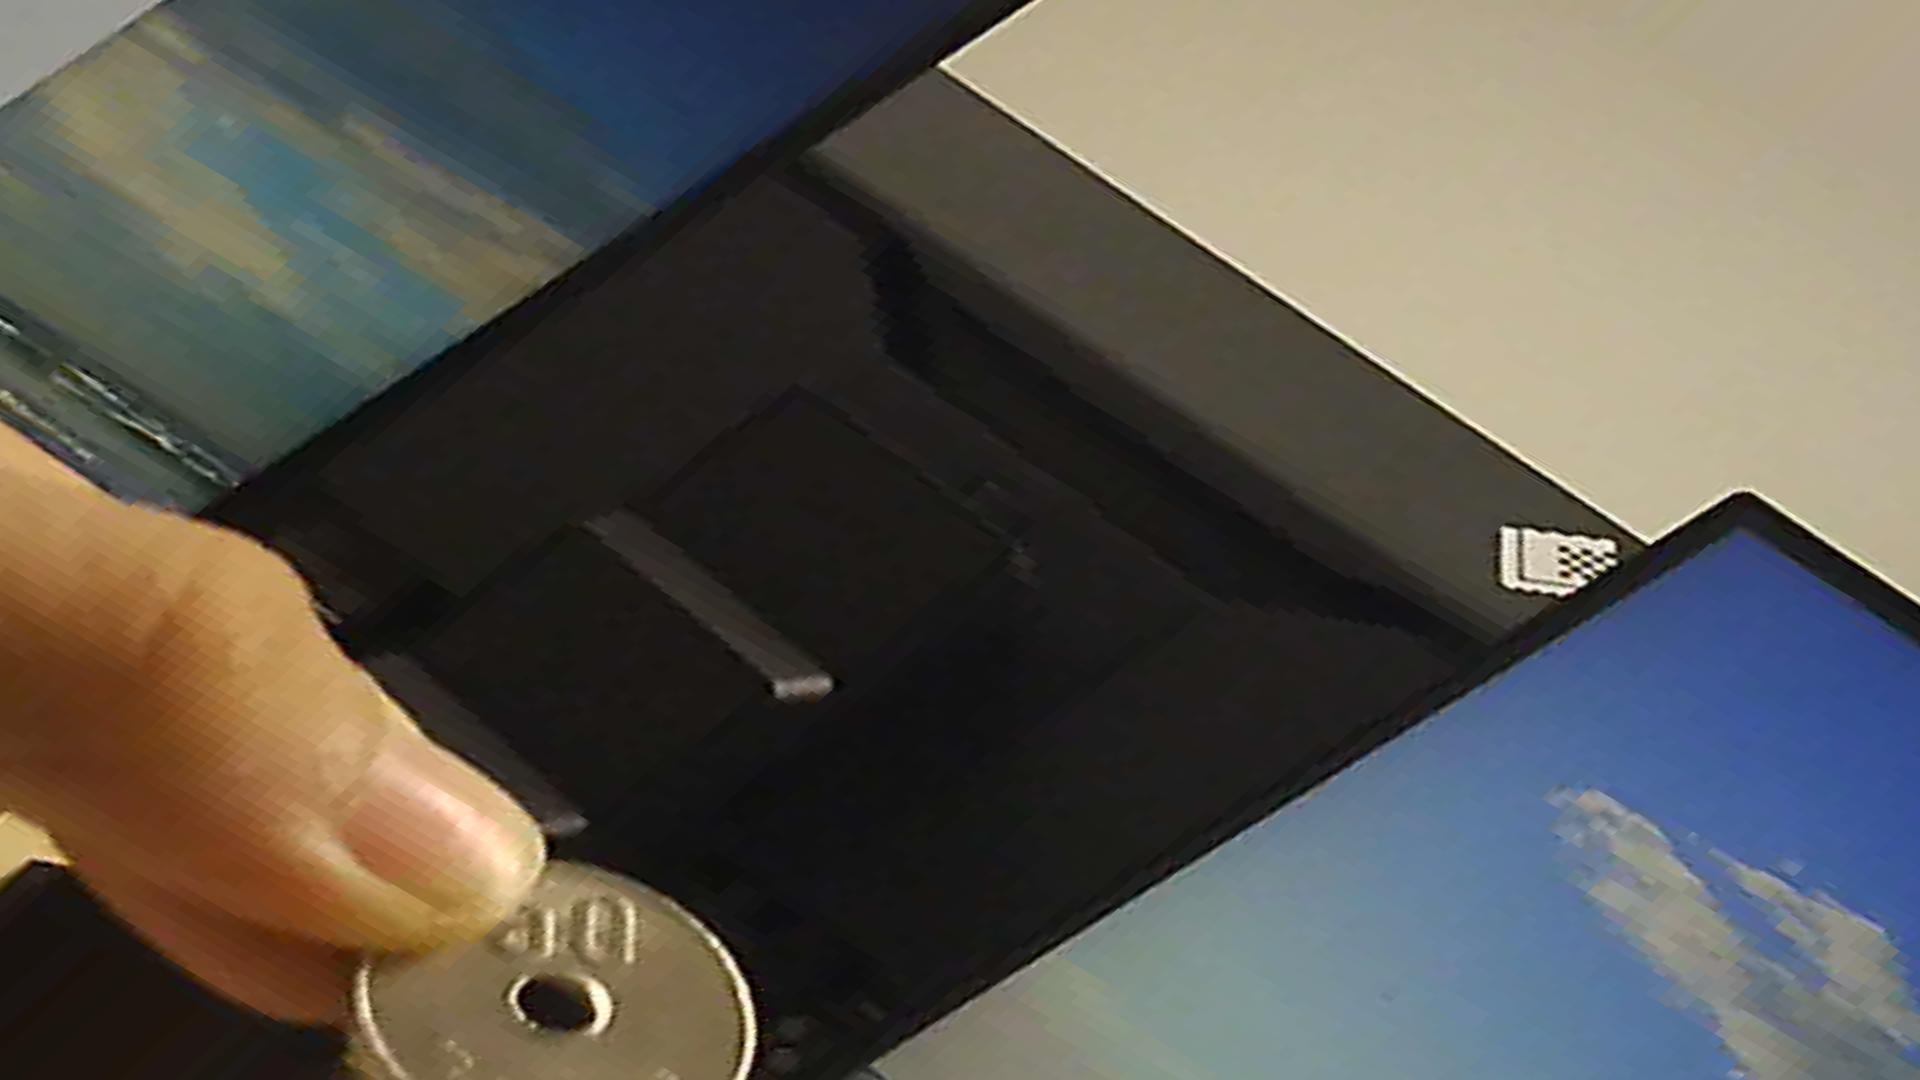50 Yen: (340, 848, 758, 1076)
